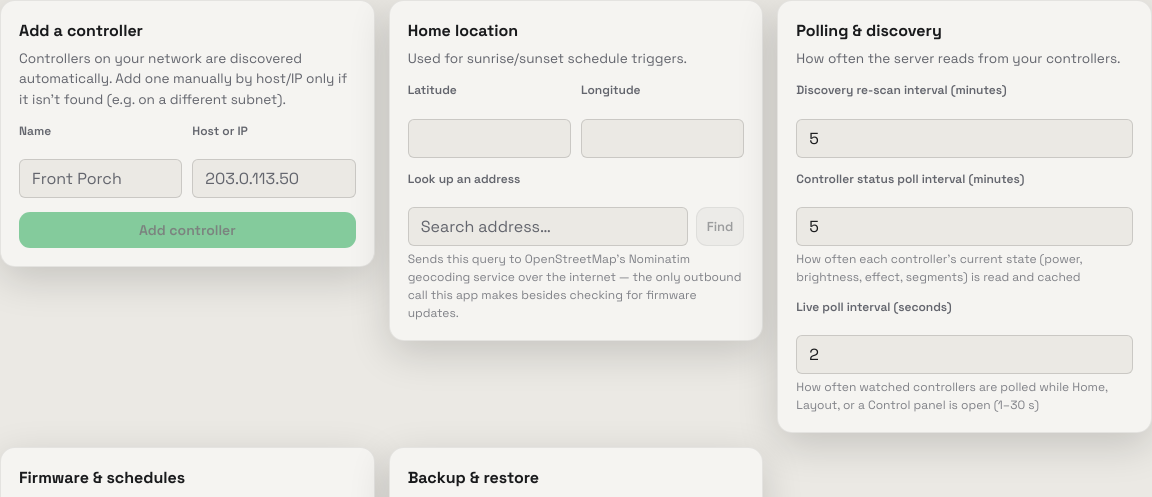
Test: SettingsSection v2 › "Look up an address" (server-proxied Nominatim geocoding) › lets the user pick among multiple ambiguous matches before applying
The width and height of the screenshot is (1152, 497).
In the field labelled "Look up an address": (548, 226) [408,207,688,246], type "Main St"
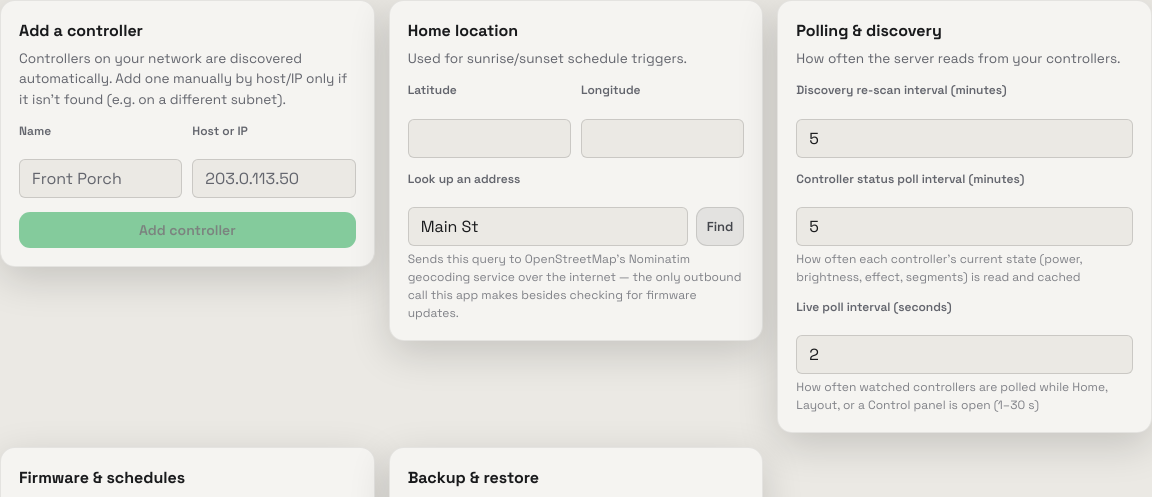
Click the button "Find": (720, 226) [696,207,744,246]
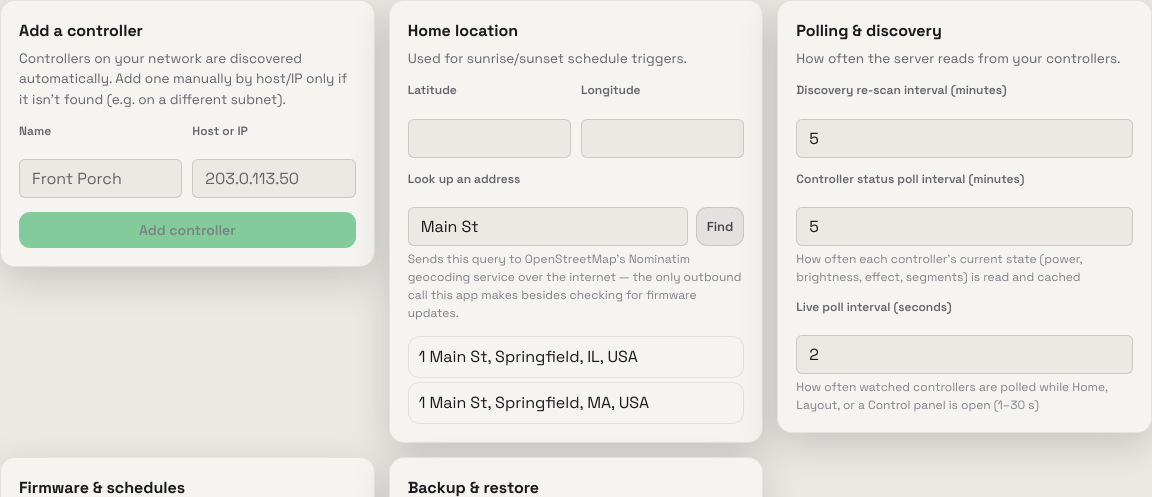
Check: the number field labelled "Latitude" is empty, box [408,119,571,158]
Click the button "1 Main St, Springfield, MA, USA": (576, 403) [408,382,744,424]
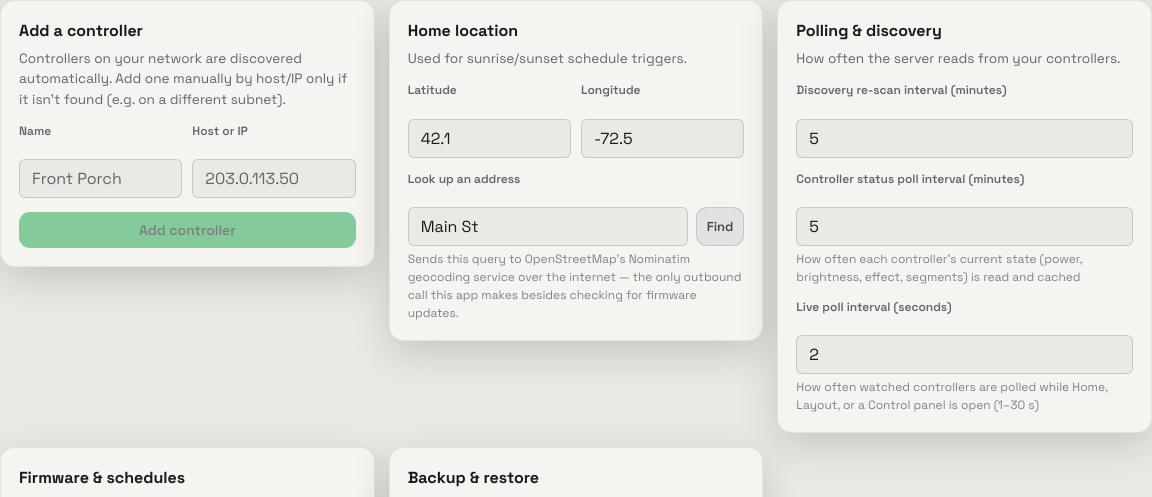
Check: the number field labelled "Latitude" holds "42.1", box [408,119,571,158]
Check: the number field labelled "Longitude" holds "-72.5", box [581,119,744,158]
Check: the button "1 Main St, Springfield, IL, USA" is gone
